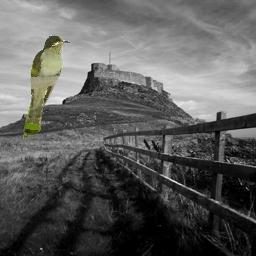Cuckoo: (23, 35, 70, 141)
